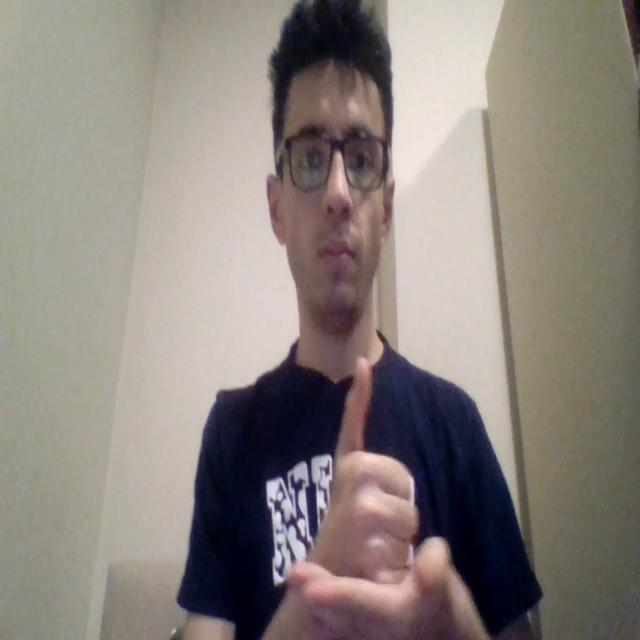help: (290, 360, 455, 640)
